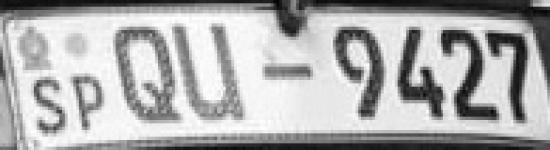-: (258, 58, 316, 90)
2: (432, 21, 510, 128)
4: (394, 20, 448, 126)
7: (485, 26, 531, 134)
9: (321, 17, 389, 124)
P: (68, 71, 111, 137)
Q: (111, 22, 180, 129)
S: (27, 69, 68, 142)
U: (172, 16, 248, 126)
